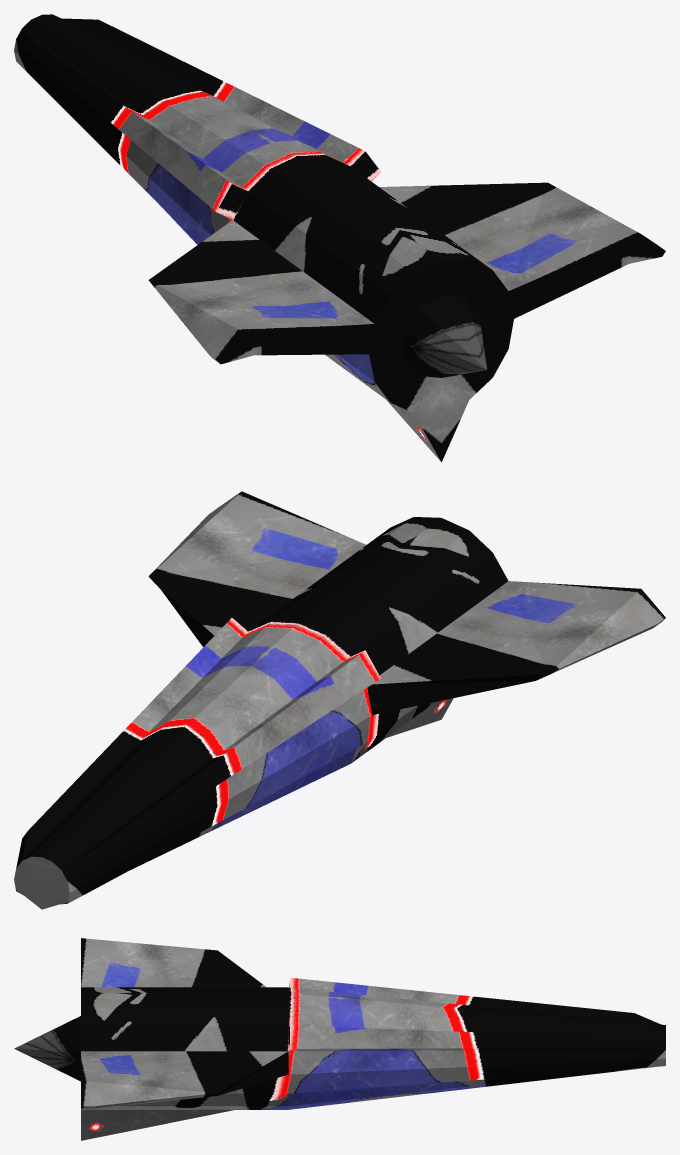
Rendered from Knife.fbx.
The picture shows the model from 3 angles, top to bottom: view 1: azimuth 30°, elevation 25°; view 2: azimuth 150°, elevation 25°; view 3: azimuth 270°, elevation 25°; orthographic projection. The views are drawn at different scales.
Visible parts, largest first — view 1: Knife; view 2: Knife; view 3: Knife.
Part boxes in pixels (box(x1,y1,x2,y2)): Knife: box(14, 14, 665, 461); Knife: box(14, 491, 665, 909); Knife: box(14, 938, 665, 1140).
Size of the model in its own units: 31.65 by 13.61 by 54.42.
Materials: 1 (1 with a texture image).
